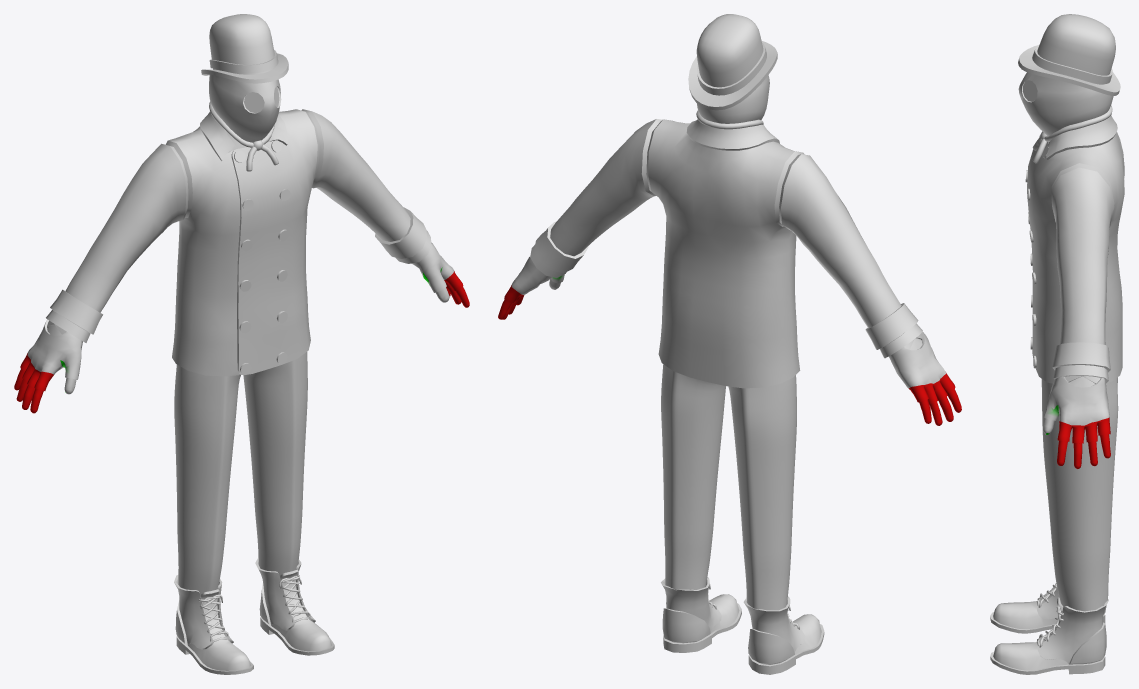
File: NPC_Bandit.fbx
3 renders of one model, left to right at view 1: azimuth 30°, elevation 25°; view 2: azimuth 150°, elevation 25°; view 3: azimuth 270°, elevation 25°, orthographic.
Parts seen in each view (by area): view 1: Bandit; view 2: Bandit; view 3: Bandit.
Boxes of the visible parts, x1=… form: Bandit: x1=14, y1=14, x2=469, y2=674; Bandit: x1=498, y1=14, x2=961, y2=674; Bandit: x1=990, y1=14, x2=1124, y2=674.
Size of the model in its own units: 135 by 182 by 35.51.
